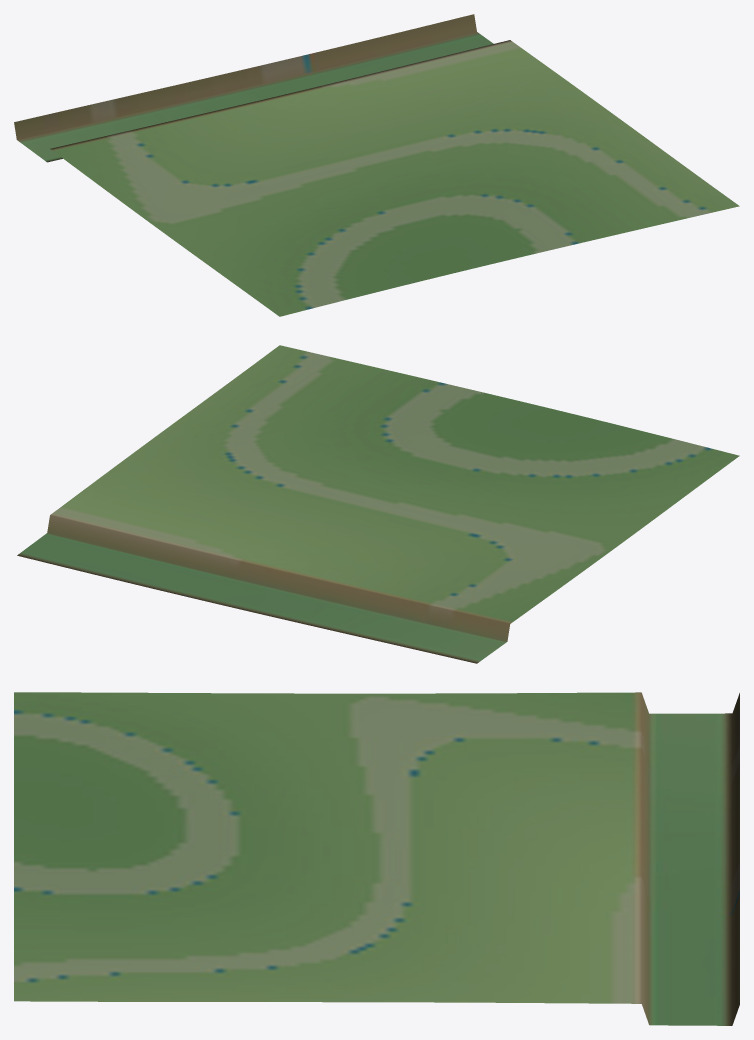
File: terrain_T_W03_S02.glb
3 views of the same model, one above another, from view 1: azimuth 30°, elevation 25°; view 2: azimuth 150°, elevation 25°; view 3: azimuth 270°, elevation 25° (orthographic). The views are drawn at different scales.
Visible parts, largest first — view 1: Terrain_T_W03_S02; view 2: Terrain_T_W03_S02; view 3: Terrain_T_W03_S02.
Part boxes in pixels (x1=…): Terrain_T_W03_S02: x1=14, y1=14, x2=739, y2=316; Terrain_T_W03_S02: x1=17, y1=345, x2=739, y2=663; Terrain_T_W03_S02: x1=14, y1=692, x2=739, y2=1025.
Bounding box in the file's own units: 2000 × 86.56 × 2000.
Materials: 1 (1 with a texture image).
